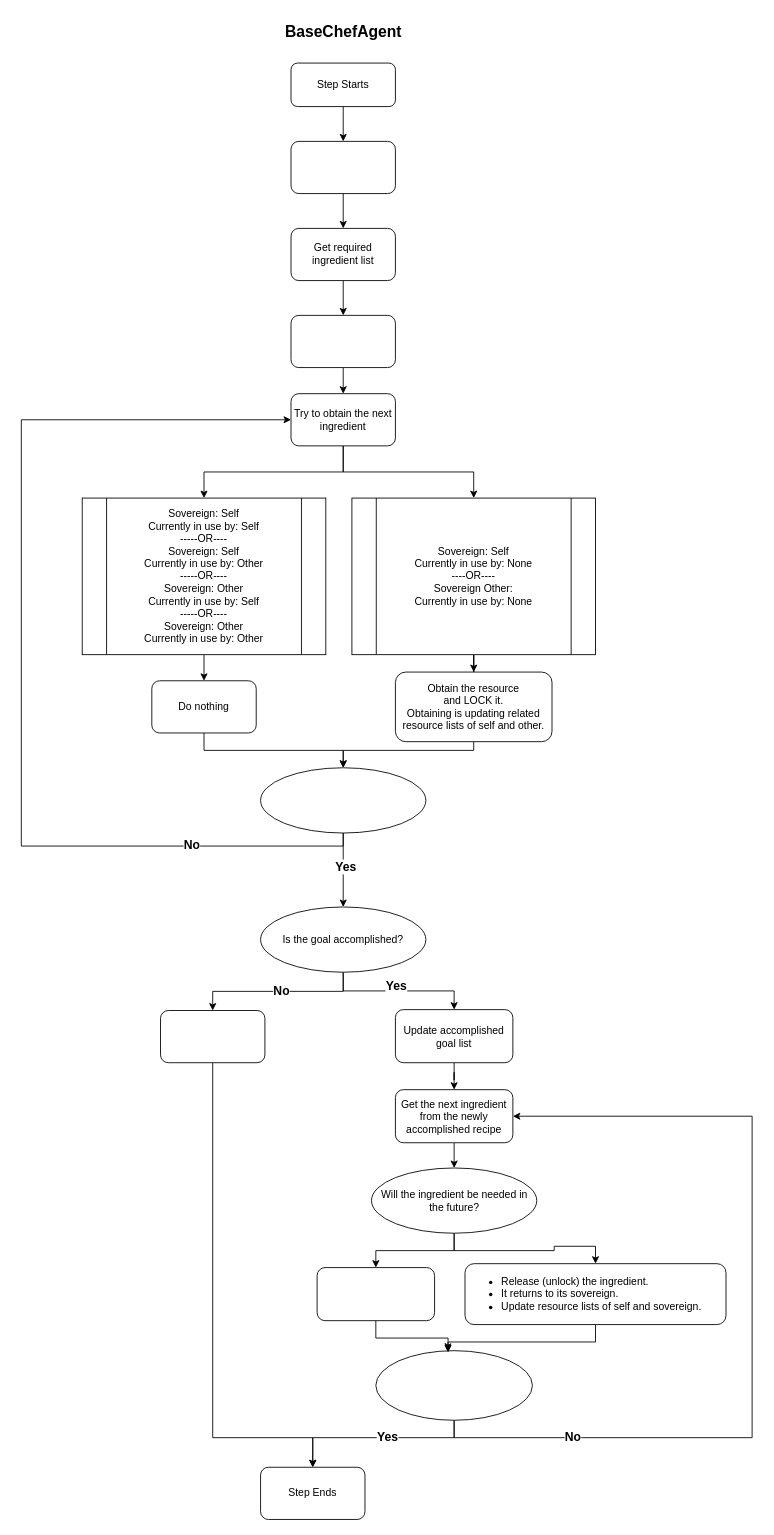
This 774x1535 diagram has some shape labels left out. Here are the shapes that lost their labels. From the top down, the centre of each, then its label:
At point 342,167: "Get next goal from remaining goals list".
At point 342,341: "Get required ingredients list".
At point 343,800: "All required ingredients checked".
At point 212,1036: "Keep holding all the ingredients required for the goal. (Keep them locked)".
At point 375,1294: "Keep the ingredient locked.".
At point 453,1385: "All ingredients checked?".
